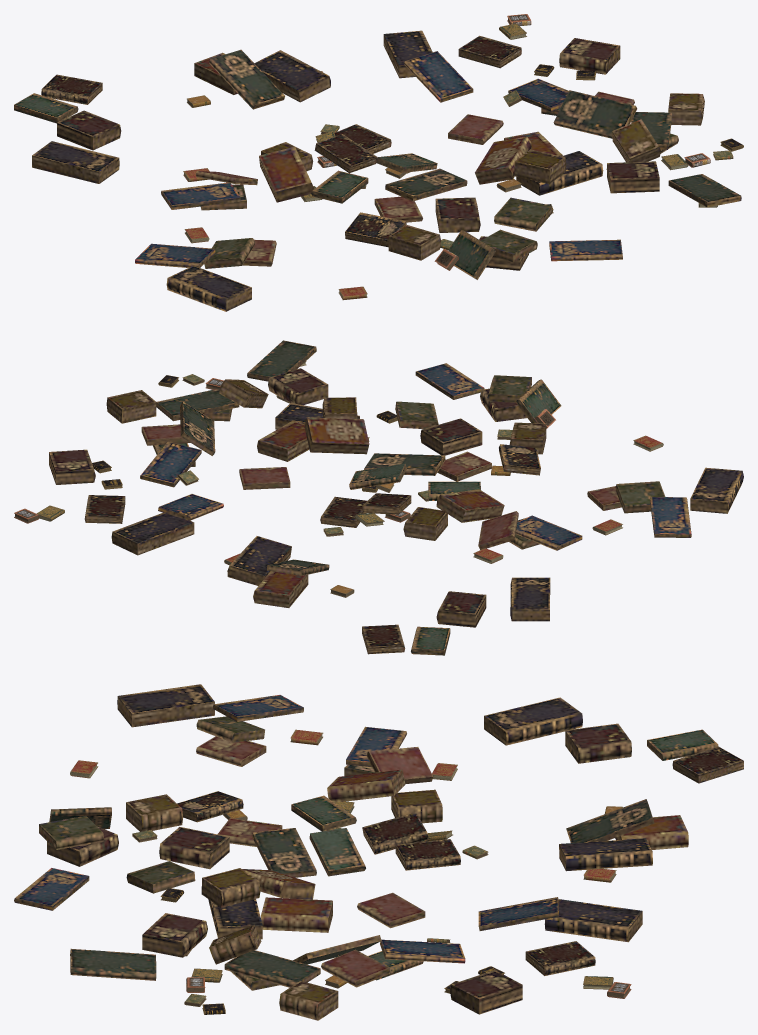
Rendered from Bookmovea.fbx.
The picture shows the model from 3 angles, top to bottom: view 1: azimuth 30°, elevation 25°; view 2: azimuth 150°, elevation 25°; view 3: azimuth 270°, elevation 25°; orthographic projection. The views are drawn at different scales.
Parts seen in each view (by area): view 1: LODGroup_1_MainMesh_1_SubMesh_1, LODGroup_1_MainMesh_1_SubMesh_2; view 2: LODGroup_1_MainMesh_1_SubMesh_1, LODGroup_1_MainMesh_1_SubMesh_2; view 3: LODGroup_1_MainMesh_1_SubMesh_1, LODGroup_1_MainMesh_1_SubMesh_2.
Boxes of the visible parts, x1=… form: LODGroup_1_MainMesh_1_SubMesh_1: x1=14, y1=30, x2=741, y2=311; LODGroup_1_MainMesh_1_SubMesh_2: x1=183, y1=14, x2=743, y2=300; LODGroup_1_MainMesh_1_SubMesh_1: x1=49, y1=340, x2=743, y2=655; LODGroup_1_MainMesh_1_SubMesh_2: x1=14, y1=361, x2=663, y2=597; LODGroup_1_MainMesh_1_SubMesh_1: x1=14, y1=684, x2=743, y2=1020; LODGroup_1_MainMesh_1_SubMesh_2: x1=70, y1=729, x2=631, y2=1014.
Size of the model in its own units: 760 by 41.74 by 723.
